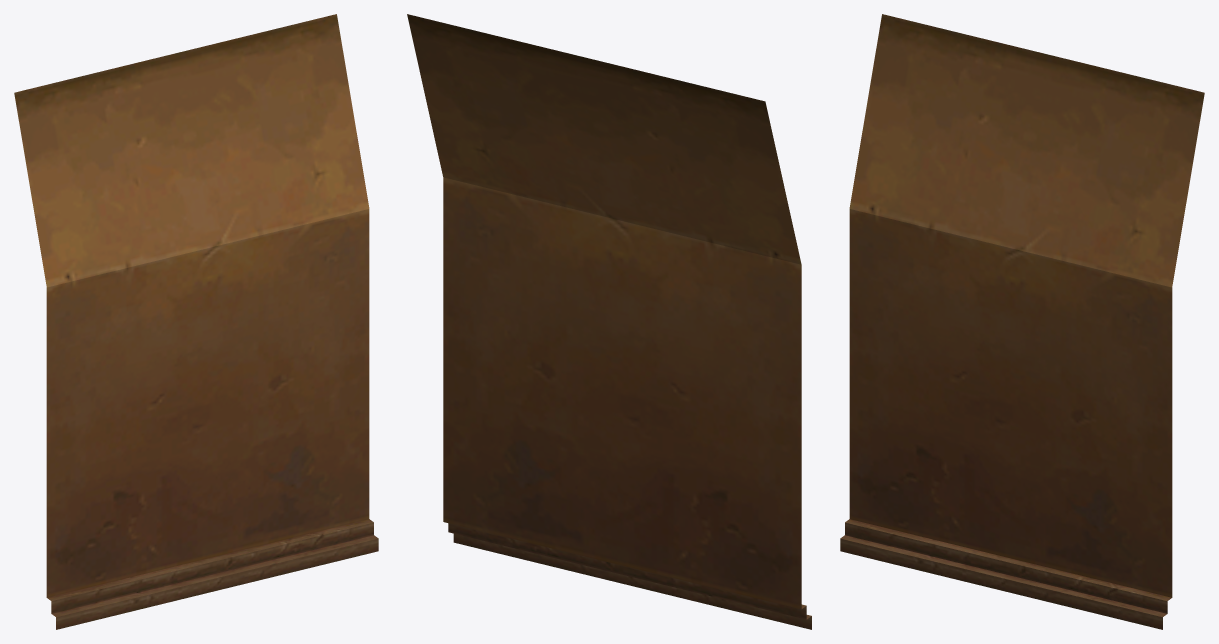
Rendered from shakian_cliff_base6_wall01_01.FBX.
3 views of the same model, side by side, from view 1: azimuth 30°, elevation 25°; view 2: azimuth 150°, elevation 25°; view 3: azimuth 330°, elevation 25° (orthographic). The views are drawn at different scales.
Visible parts, largest first — view 1: shakian_cliff_base6_wall01_01; view 2: shakian_cliff_base6_wall01_01; view 3: shakian_cliff_base6_wall01_01.
Boxes of the visible parts, <box> form: shakian_cliff_base6_wall01_01: <box>14,14,378,629</box>; shakian_cliff_base6_wall01_01: <box>407,14,811,629</box>; shakian_cliff_base6_wall01_01: <box>840,14,1204,629</box>.
Size of the model in its own units: 4 by 6 by 0.9.
